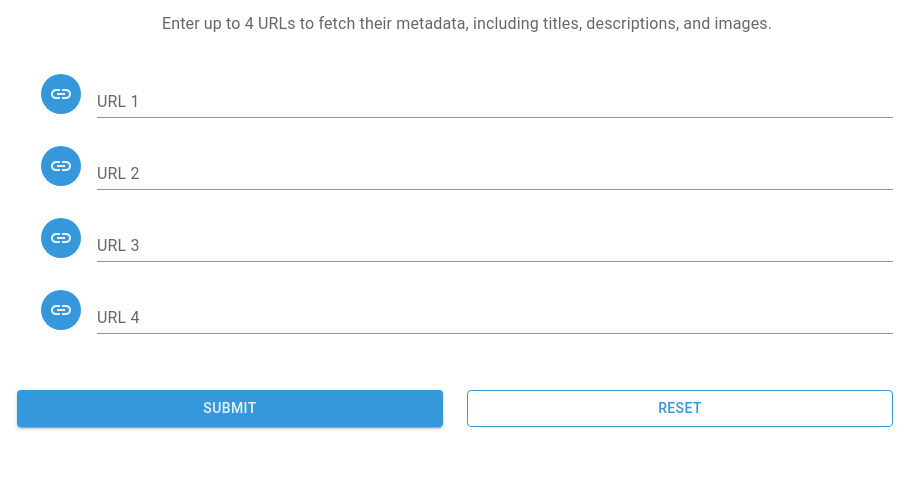
it: UrlForm Component › should display an error message for invalid URL submission
Step 1. Type "invalid-url" into the field labelled "URL 1" → (495, 102), box top-left (97, 86), bottom-right (893, 118)
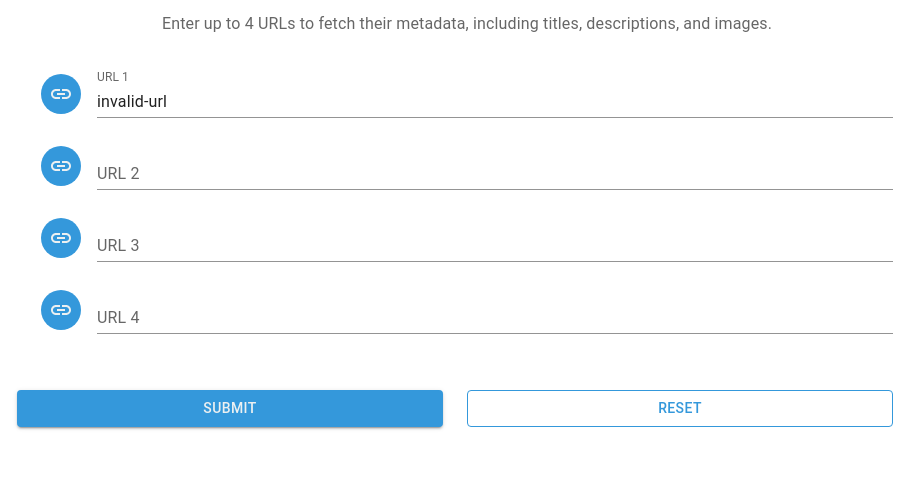
Step 2. Click the button "Submit" → (230, 408), box top-left (17, 390), bottom-right (443, 426)
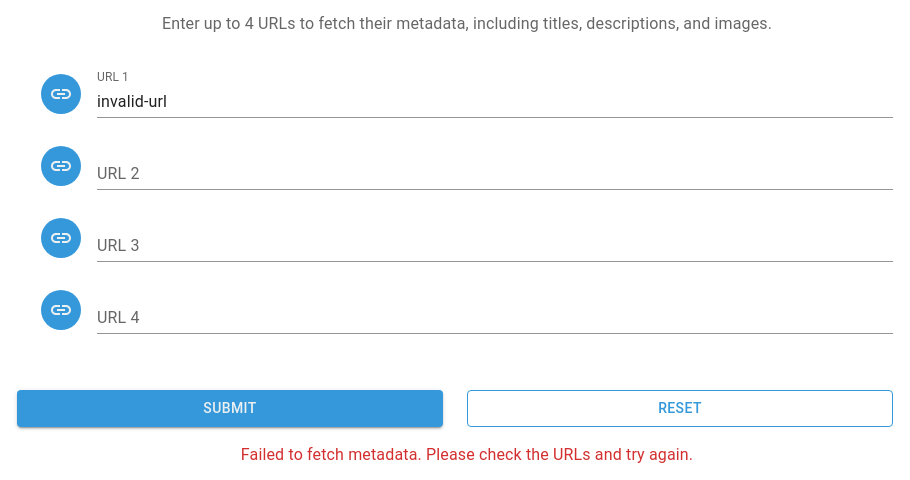
Check: the text "Failed to fetch metadata" is shown, box top-left (241, 444), bottom-right (693, 464)
